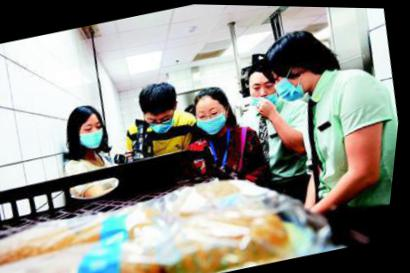OK: (270, 62, 315, 106), (73, 111, 116, 152), (195, 98, 232, 136), (149, 107, 182, 135)
WRONG: (248, 77, 285, 112)
